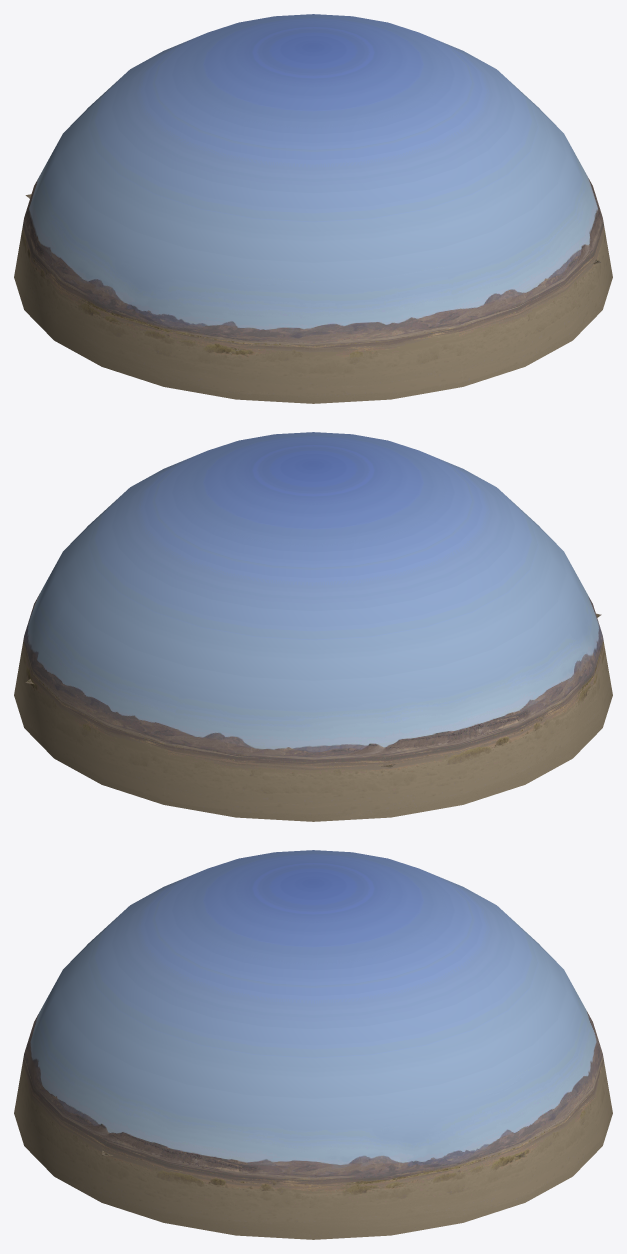
Rendered from landframe.glb.
The picture shows the model from 3 angles, top to bottom: view 1: azimuth 30°, elevation 25°; view 2: azimuth 150°, elevation 25°; view 3: azimuth 270°, elevation 25°; orthographic projection.
Visible parts, largest first — view 1: desert_environment03_terrain_grass_dirt_0.001; view 2: desert_environment03_terrain_grass_dirt_0.001; view 3: desert_environment03_terrain_grass_dirt_0.001.
Part boxes in pixels (x1,y1,x2,y2): desert_environment03_terrain_grass_dirt_0.001: (14, 14, 612, 403); desert_environment03_terrain_grass_dirt_0.001: (14, 432, 612, 821); desert_environment03_terrain_grass_dirt_0.001: (14, 850, 612, 1239).
Bounding box in the file's own units: 1150 × 489 × 1150.
Materials: 185 (139 with a texture image).
